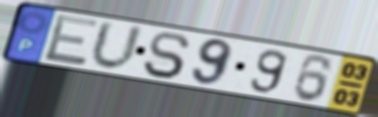6: (291, 53, 334, 104)
9: (190, 37, 237, 89), (248, 48, 288, 95)
E: (42, 12, 102, 68)
S: (140, 31, 194, 81)
U: (87, 18, 146, 73)
